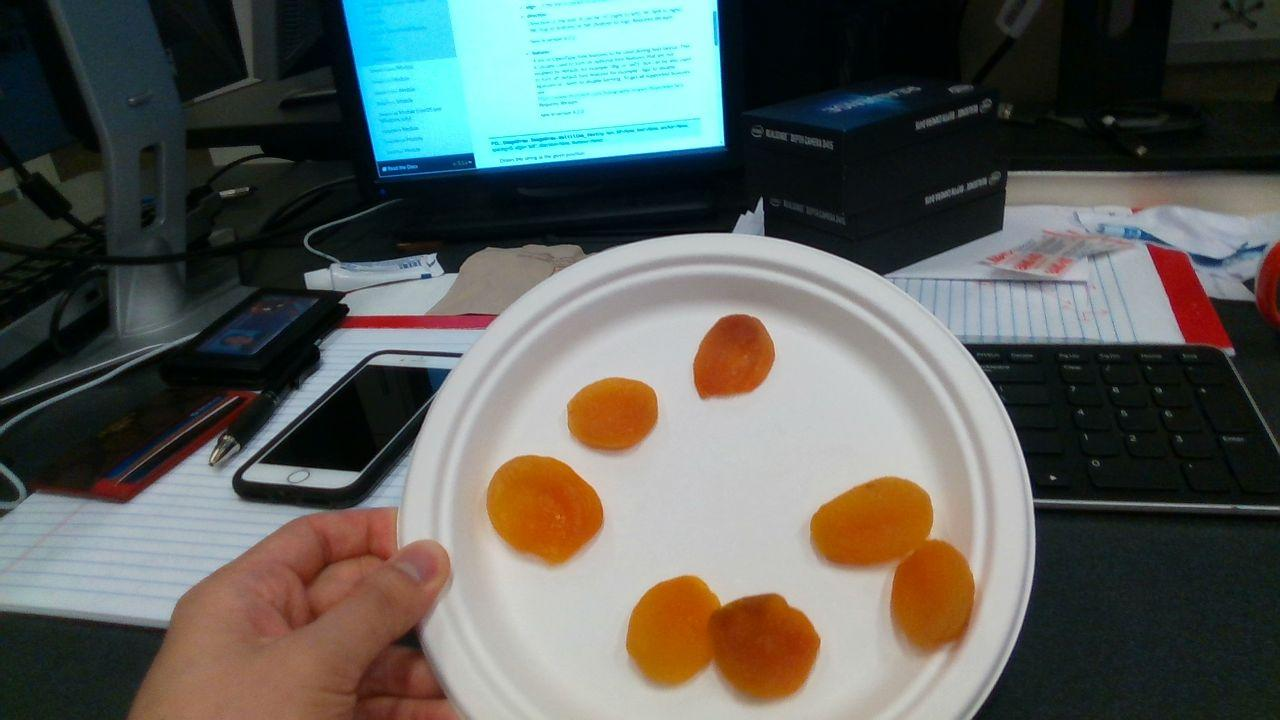apricot: (487, 456, 605, 561), (707, 594, 821, 697), (812, 477, 933, 564), (626, 577, 721, 683), (892, 540, 975, 648), (694, 315, 775, 398), (568, 377, 658, 450)
plate: (400, 235, 1035, 720)
